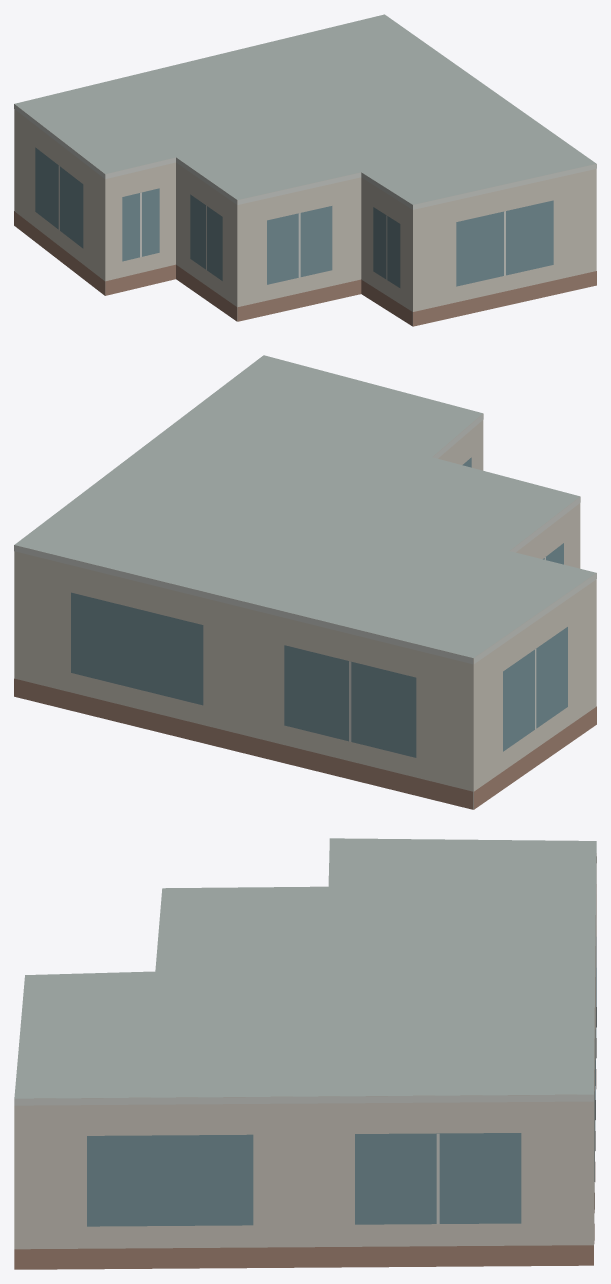
The model's file is survey-upis-33003878.glb.
3 views of the same model, one above another, from view 1: azimuth 30°, elevation 25°; view 2: azimuth 150°, elevation 25°; view 3: azimuth 270°, elevation 25° (orthographic). The views are drawn at different scales.
Visible parts, largest first — view 1: survey-upis-33003878.tmp; view 2: survey-upis-33003878.tmp; view 3: survey-upis-33003878.tmp.
Boxes of the visible parts, left/top/right/bottom form: survey-upis-33003878.tmp: left=14, top=14, right=596, bottom=326; survey-upis-33003878.tmp: left=14, top=355, right=596, bottom=809; survey-upis-33003878.tmp: left=14, top=838, right=596, bottom=1269.
Size of the model in its own units: 9.97 by 3.05 by 9.42.
